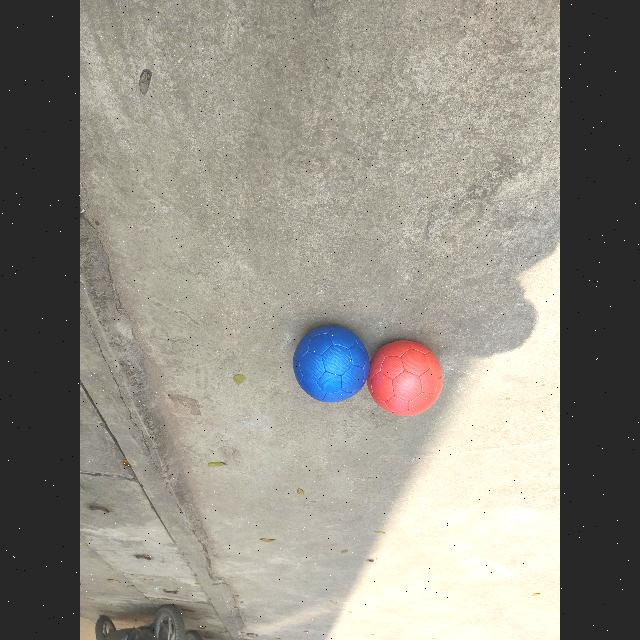B: (293, 321, 370, 402)
R: (366, 336, 444, 415)
